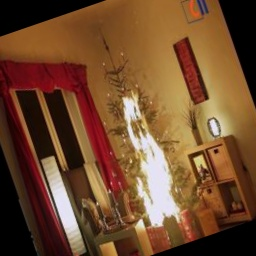fire: (91, 78, 199, 235)
